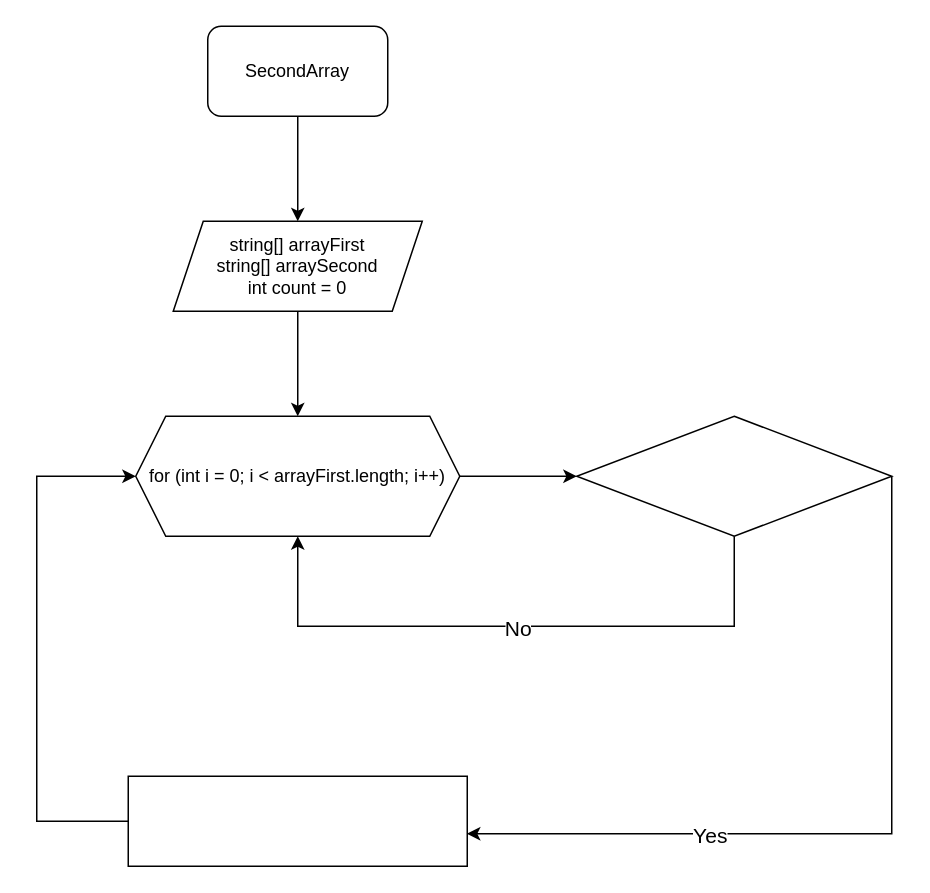
The diagram is 930 pixels wide and 893 high, and some of its shapes have lost their labels. Each missing label, with the centre of its shape:
"arraySecond[count] = arrayFirst[i] count++;" belongs at pixel 297 820.
"if (arrayFirst[i].length <= 3)" belongs at pixel 733 475.
